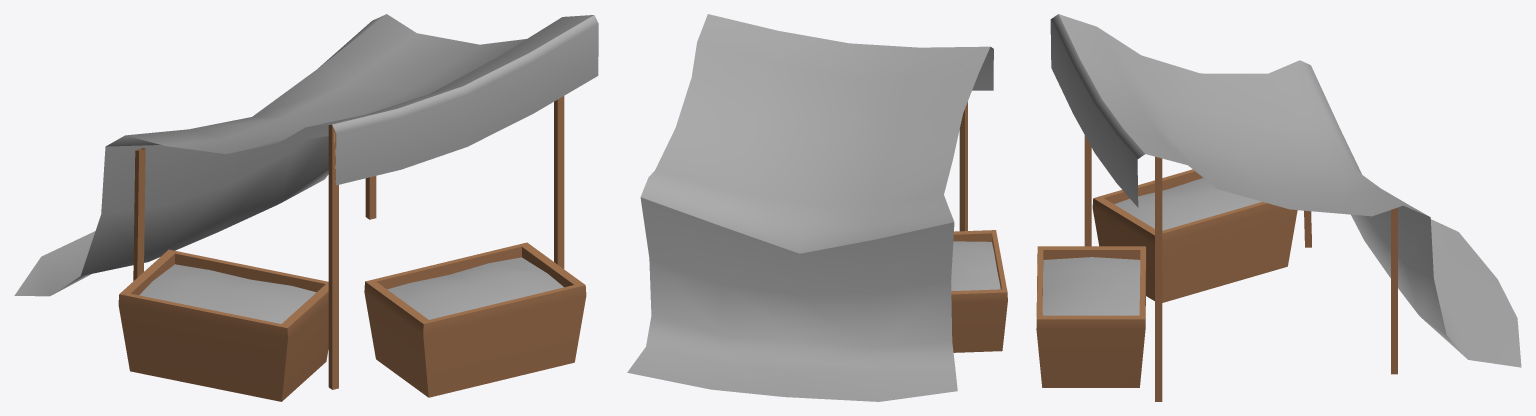
Rendered from Shop.fbx.
3 renders of one model, left to right at view 1: azimuth 30°, elevation 25°; view 2: azimuth 150°, elevation 25°; view 3: azimuth 270°, elevation 25°, orthographic. The views are drawn at different scales.
Parts seen in each view (by area): view 1: polySurface8, polySurface7; view 2: polySurface8, polySurface7; view 3: polySurface8, polySurface7.
Part boxes in pixels (x1,y1,x2,y2): polySurface8: (14,14,598,323); polySurface7: (118,96,586,401); polySurface8: (627,14,1000,401); polySurface7: (951,101,1007,352); polySurface8: (1042,14,1521,367); polySurface7: (1036,135,1397,401).
Size of the model in its own units: 24.7 by 15.23 by 24.98.
